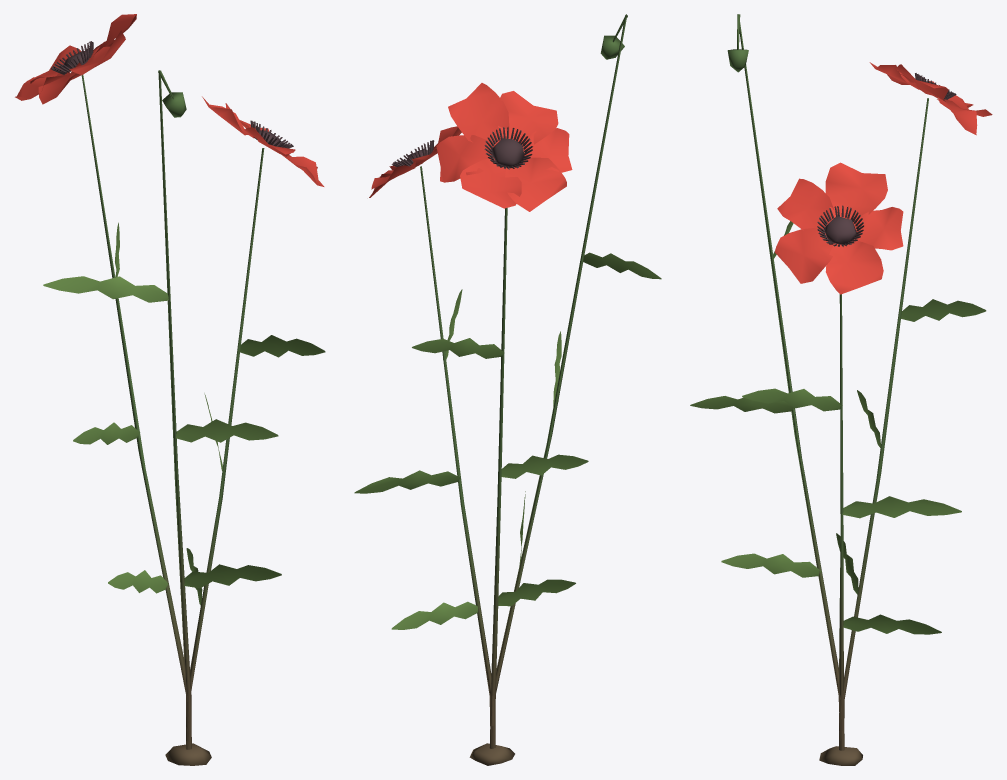
Rendered from Poppy_lod1.glb.
The picture shows the model from 3 angles, left to right: view 1: azimuth 30°, elevation 25°; view 2: azimuth 150°, elevation 25°; view 3: azimuth 270°, elevation 25°; orthographic projection. The views are drawn at different scales.
Visible parts, largest first — view 1: Plant_LOD1; view 2: Plant_LOD1; view 3: Plant_LOD1.
Boxes of the visible parts, <box> form: Plant_LOD1: <box>15,14,325,765</box>; Plant_LOD1: <box>354,14,661,765</box>; Plant_LOD1: <box>690,14,992,765</box>.
Size of the model in its own units: 0.2757 by 0.6916 by 0.269.
